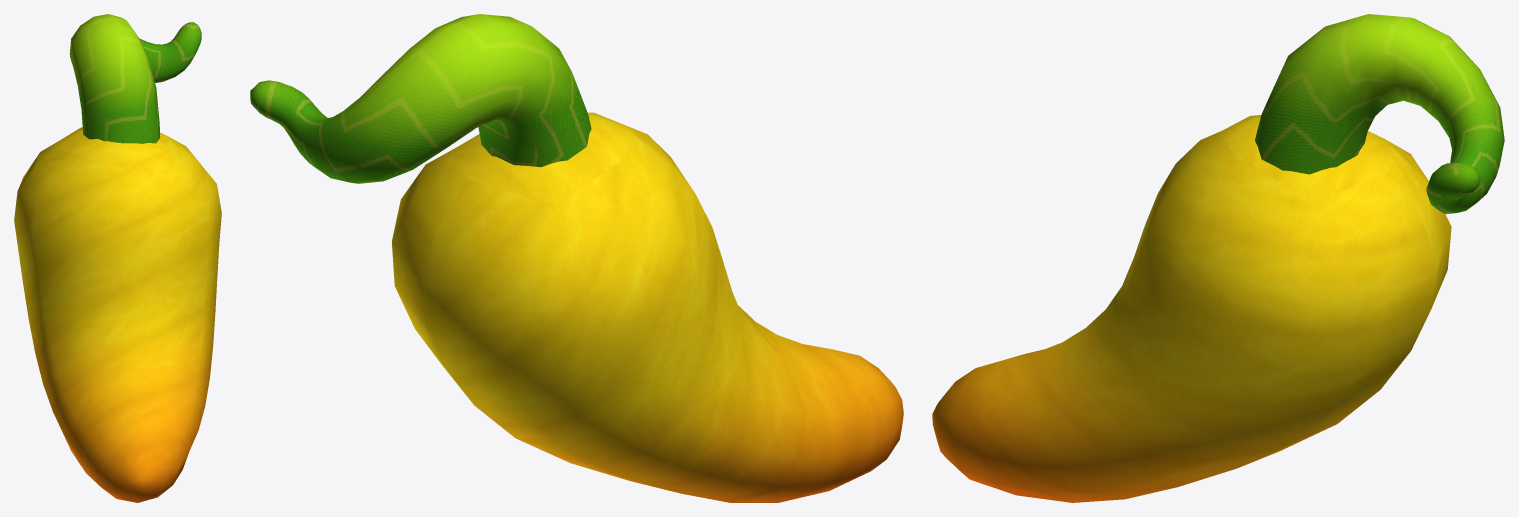
File: AS_Berry.fbx
3 views of the same model, side by side, from view 1: azimuth 30°, elevation 25°; view 2: azimuth 150°, elevation 25°; view 3: azimuth 270°, elevation 25° (orthographic). The views are drawn at different scales.
Parts seen in each view (by area): view 1: AS_Berry; view 2: AS_Berry; view 3: AS_Berry.
Part boxes in pixels (bbox=[...]): AS_Berry: bbox=[14, 14, 221, 502]; AS_Berry: bbox=[250, 14, 903, 502]; AS_Berry: bbox=[932, 14, 1504, 502].
Size of the model in its own units: 42.62 by 56.84 by 54.92.
